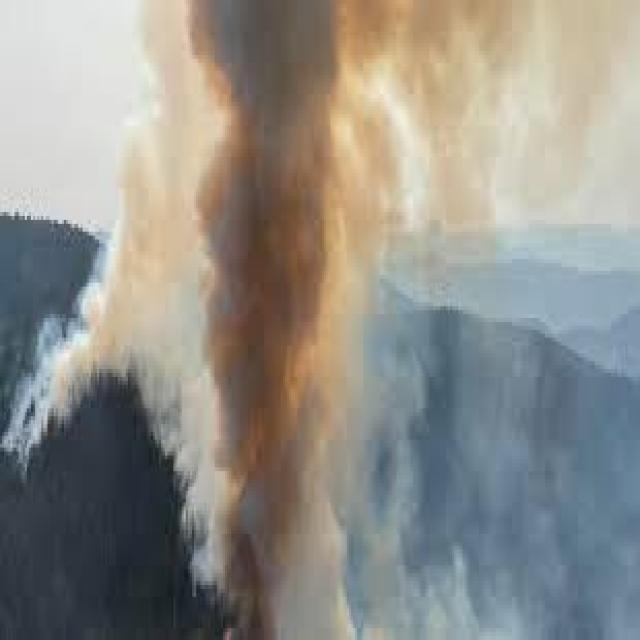Smoke: (0, 89, 640, 487), (106, 0, 640, 261), (196, 0, 361, 634), (96, 0, 352, 336)
